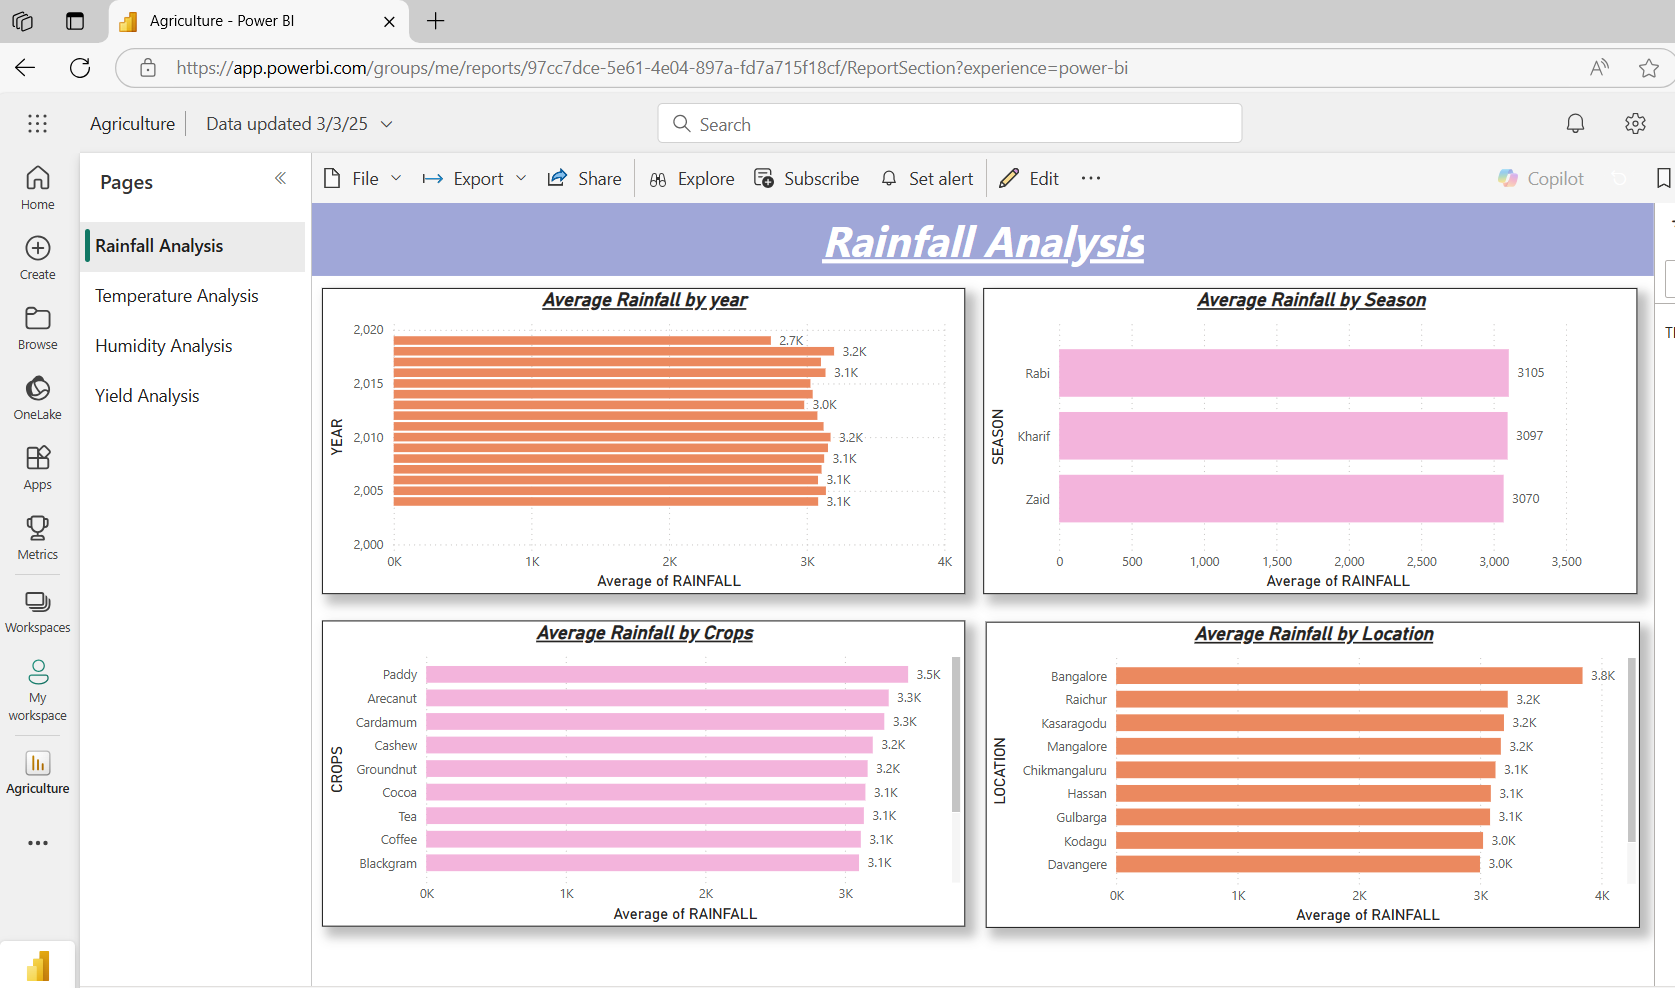

Layout of this report page (visuals, bound fields, positions):
{"tool":"powerbi","page":{"name":"Rainfall Analysis ","canvas":[1280,720],"ordinal":0},"visuals":[{"type":"shape","box":[0,0,1280.3,70],"z":0},{"type":"barChart","title":"Average Rainfall by year","fields":{"Y":["Avg(AGRICULTURE.RAINFALL)"],"Category":["AGRICULTURE.YEAR"]},"box":[9.6,81,613.4,292.3],"z":1000},{"type":"barChart","title":"Average Rainfall by Season","fields":{"Y":["Avg(AGRICULTURE.RAINFALL)"],"Category":["AGRICULTURE.SEASON"]},"box":[640.8,81,624.4,292.3],"z":2000},{"type":"barChart","title":"Average Rainfall by Crops","fields":{"Y":["Avg(AGRICULTURE.RAINFALL)"],"Category":["AGRICULTURE.CROPS"]},"box":[9.6,397.9,613.4,292.3],"z":3000},{"type":"barChart","title":"Average Rainfall by Location","fields":{"Y":["Avg(AGRICULTURE.RAINFALL)"],"Category":["AGRICULTURE.LOCATION"]},"box":[642.2,399.3,624.4,292.3],"z":4000}]}

Visuals, with their boxes on the page's 1280x720 design canvas (x1, y1, x2, y2). These are canvas units, not pixel positions in the 1675x988 screenshot, which may show the page scaled, cropped or inside an application window:
shape: (left=0, top=0, right=1280, bottom=70)
"Average Rainfall by year" barChart: (left=10, top=81, right=623, bottom=373)
"Average Rainfall by Season" barChart: (left=641, top=81, right=1265, bottom=373)
"Average Rainfall by Crops" barChart: (left=10, top=398, right=623, bottom=690)
"Average Rainfall by Location" barChart: (left=642, top=399, right=1267, bottom=692)
